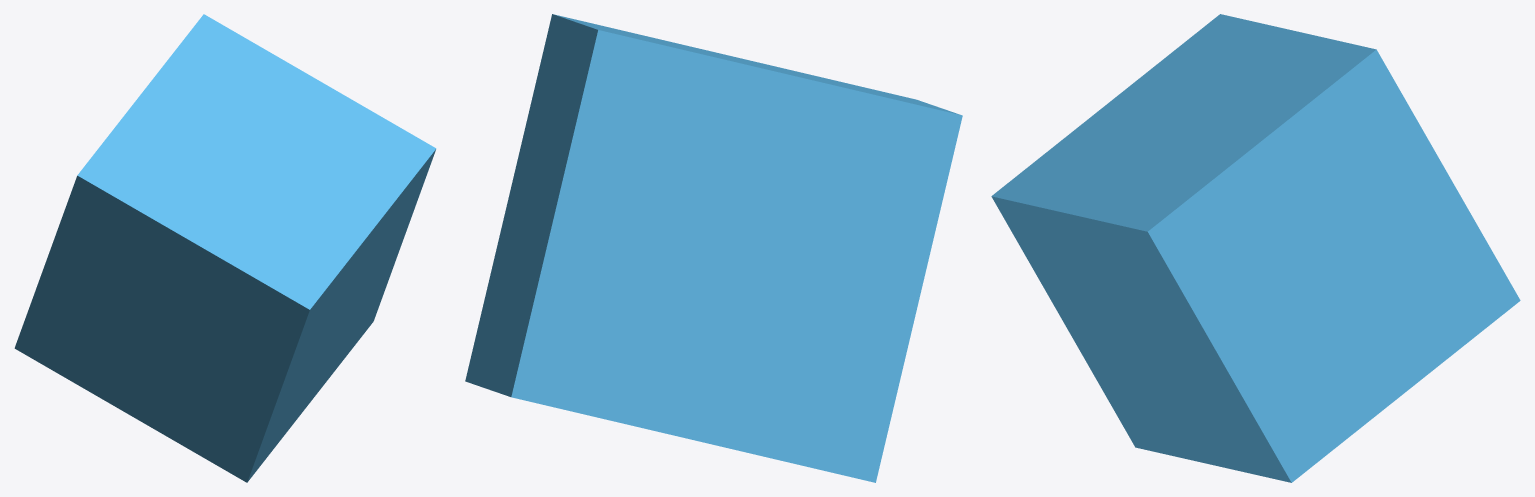
3 views of the same model, side by side, from view 1: azimuth 30°, elevation 25°; view 2: azimuth 150°, elevation 25°; view 3: azimuth 270°, elevation 25° (orthographic). The views are drawn at different scales.
Visible parts, largest first — view 1: Cube; view 2: Cube; view 3: Cube.
Boxes of the visible parts, bbox=[...] form: Cube: bbox=[14, 14, 436, 482]; Cube: bbox=[465, 14, 962, 482]; Cube: bbox=[991, 14, 1520, 482].
Size of the model in its own units: 2.78 by 3.06 by 3.39.
